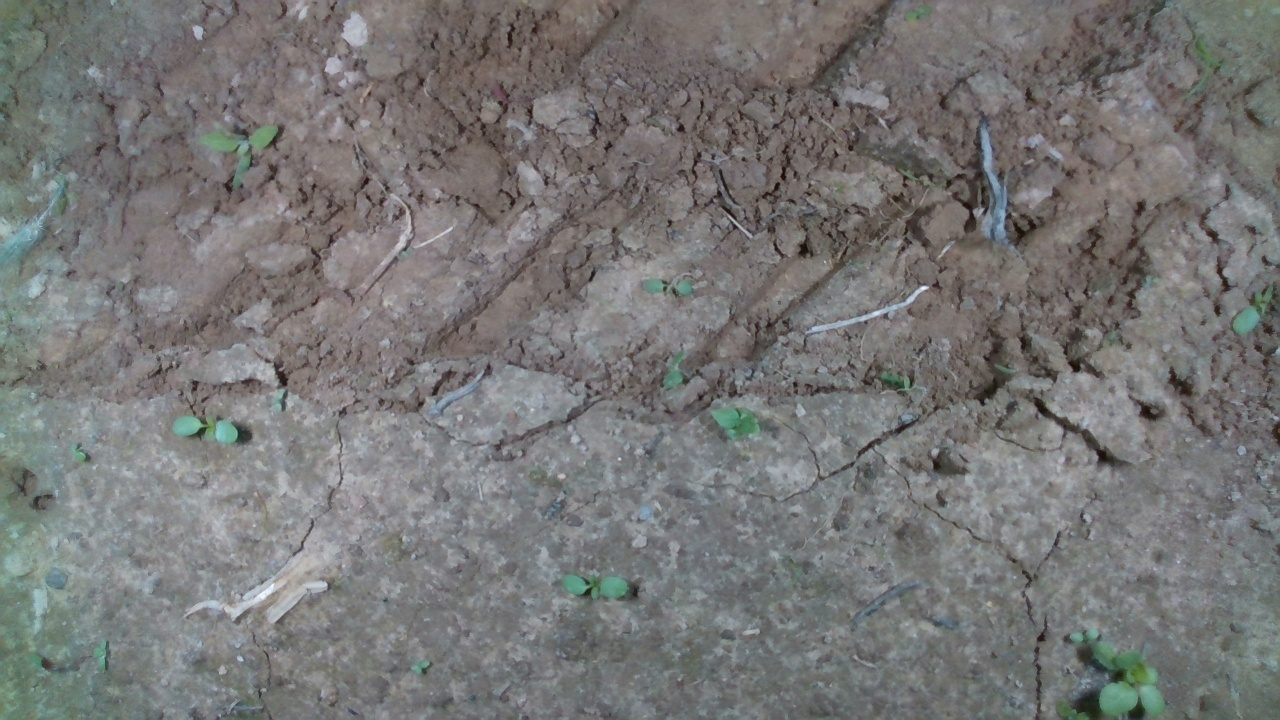weed: (198, 121, 280, 153), (169, 411, 240, 446), (1231, 284, 1275, 336), (558, 570, 629, 600), (708, 404, 762, 440), (640, 275, 695, 296), (88, 636, 109, 673), (407, 657, 433, 675), (68, 442, 87, 465)
